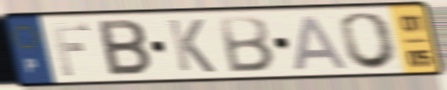A: (292, 13, 352, 72)
B: (216, 14, 277, 75), (95, 18, 154, 79)
F: (48, 21, 92, 78)
K: (165, 17, 218, 75)
O: (337, 10, 403, 72)
